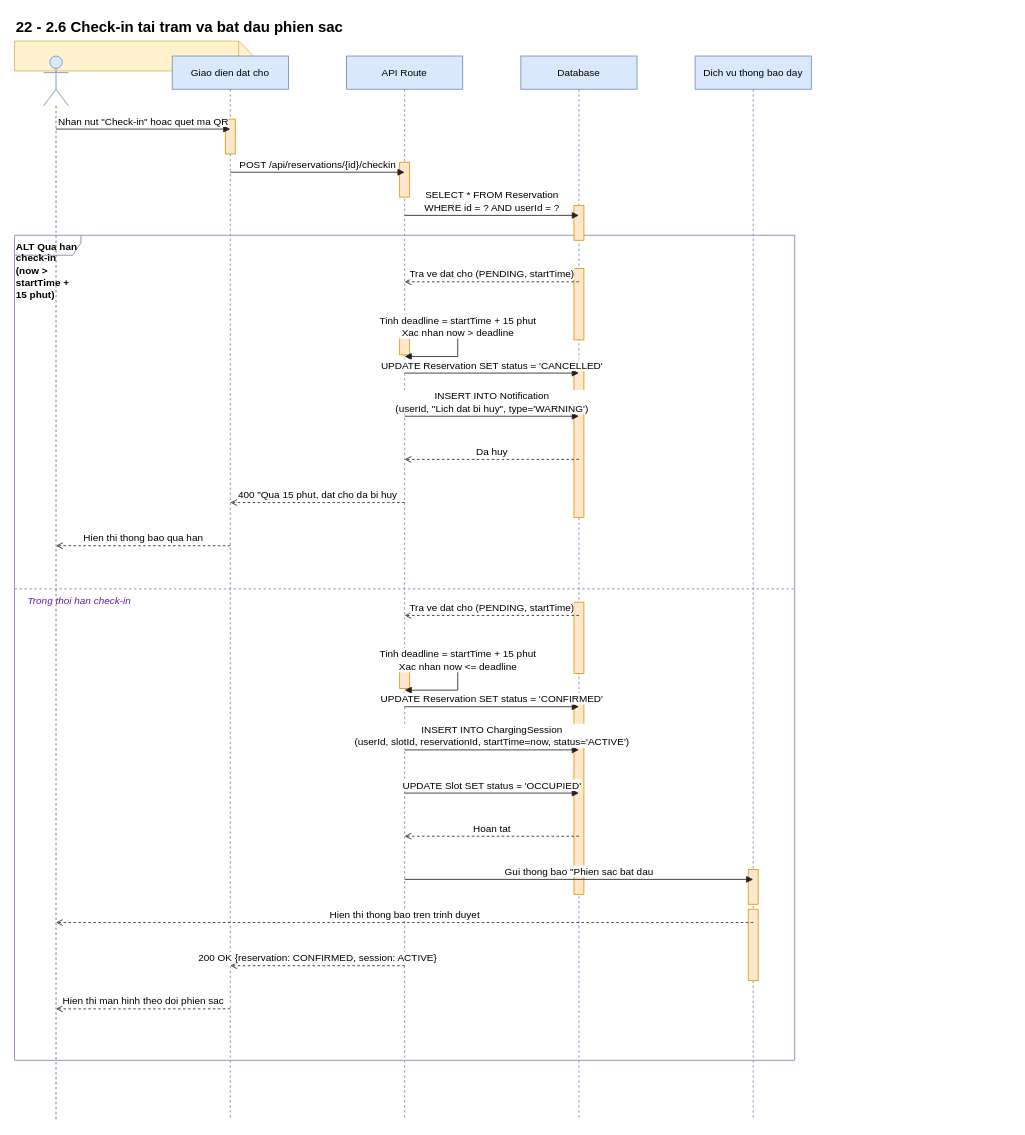
Some shapes in this 1025 by 1135 pixel diagram are drawn without their labels. The centre of each missing label's shape, as x and y in pixels:
Khach hang: the point at 55,80
Mermaid sequence source: PHAN_TICH_THIET_KE_HE_THONG.md:1052: the point at 139,55
